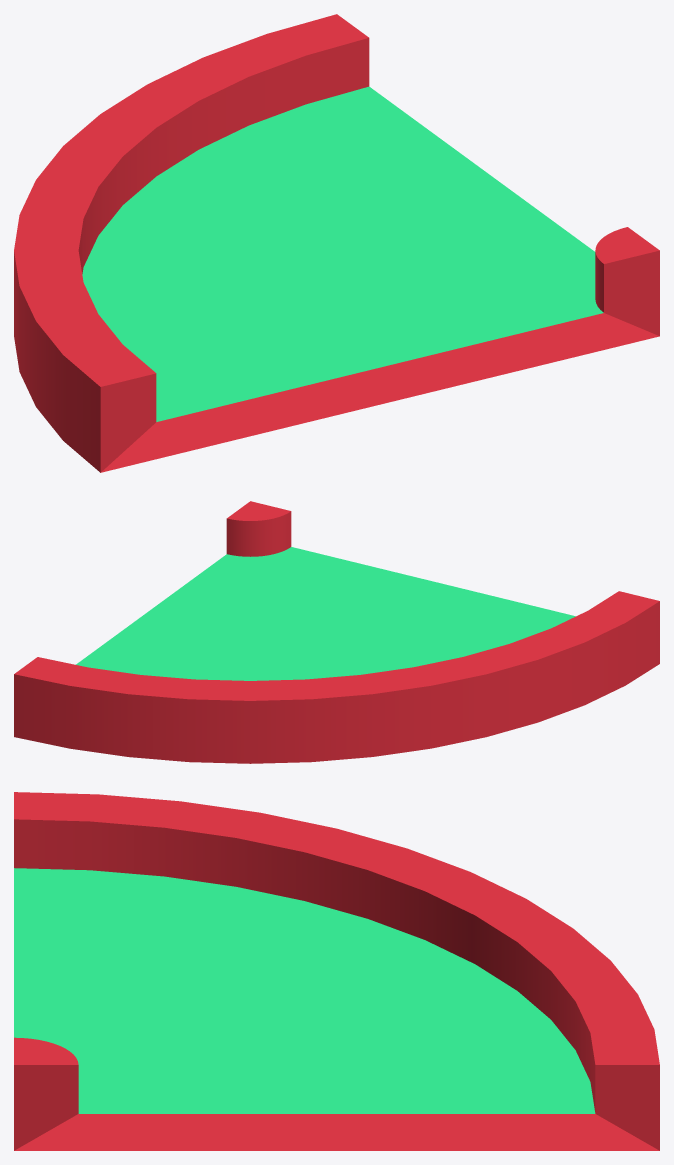
File: roundCornerA.fbx
The picture shows the model from 3 angles, top to bottom: view 1: azimuth 30°, elevation 25°; view 2: azimuth 150°, elevation 25°; view 3: azimuth 270°, elevation 25°; orthographic projection. The views are drawn at different scales.
Parts seen in each view (by area): view 1: roundCornerA; view 2: roundCornerA; view 3: roundCornerA.
Part boxes in pixels (<box>): roundCornerA: <box>14,14,659,472</box>; roundCornerA: <box>14,501,659,763</box>; roundCornerA: <box>14,792,659,1150</box>.
Size of the model in its own units: 99.99 by 99.99 by 14.67.
